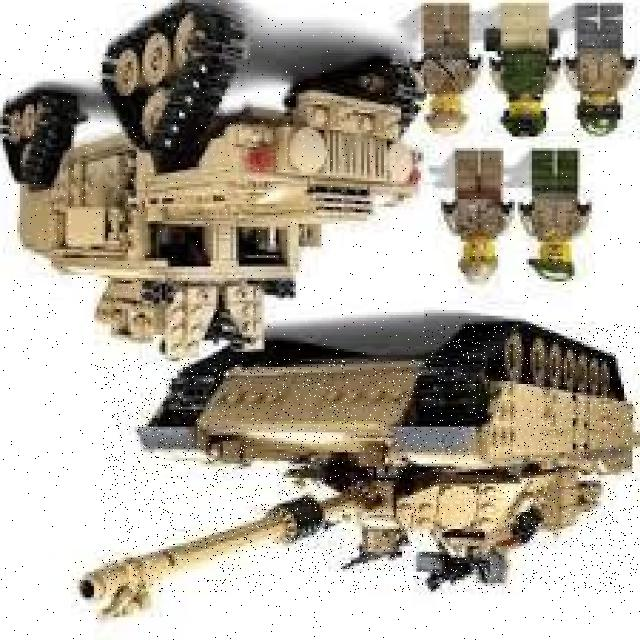MIL_MBT: (102, 323, 639, 593), (9, 25, 423, 359)
